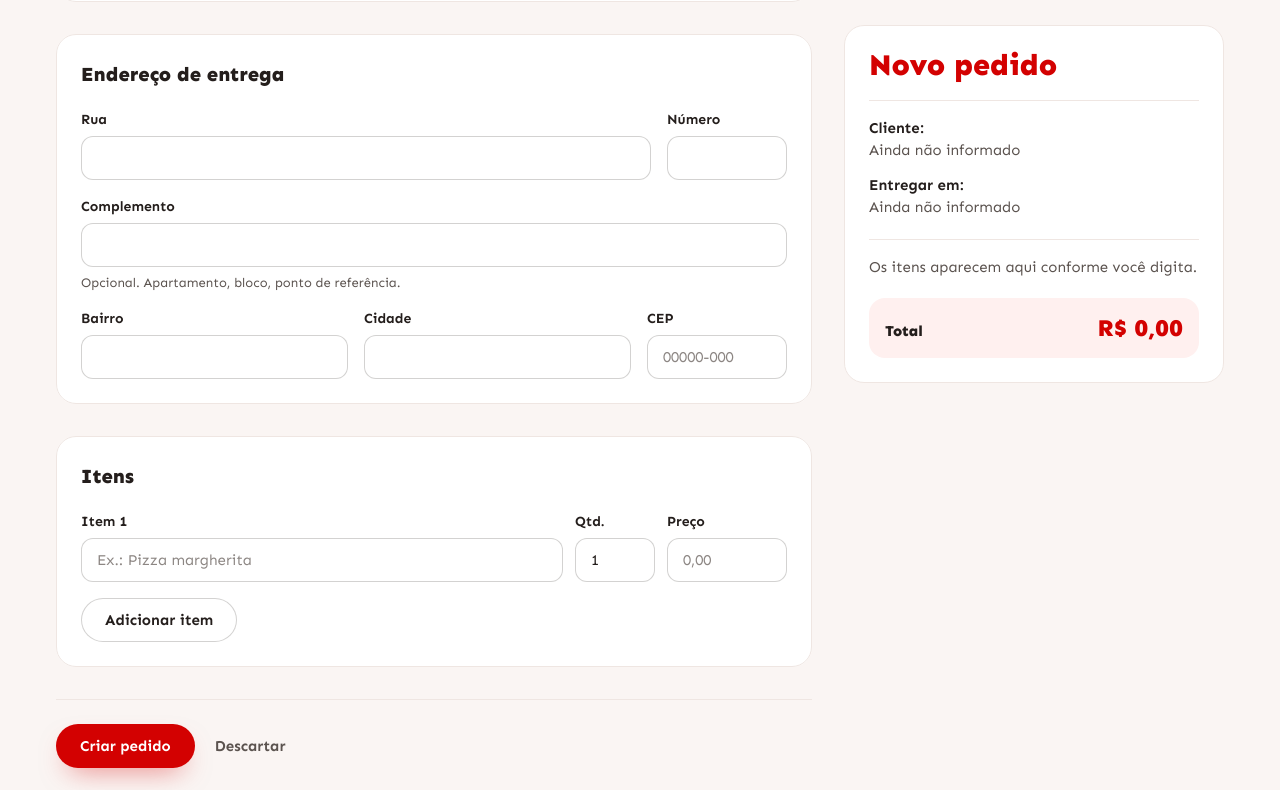
Test: novo pedido › remove um item da lista
(page scrolled)
Click the button "Adicionar item" at (159, 620), box [81,598,237,642]
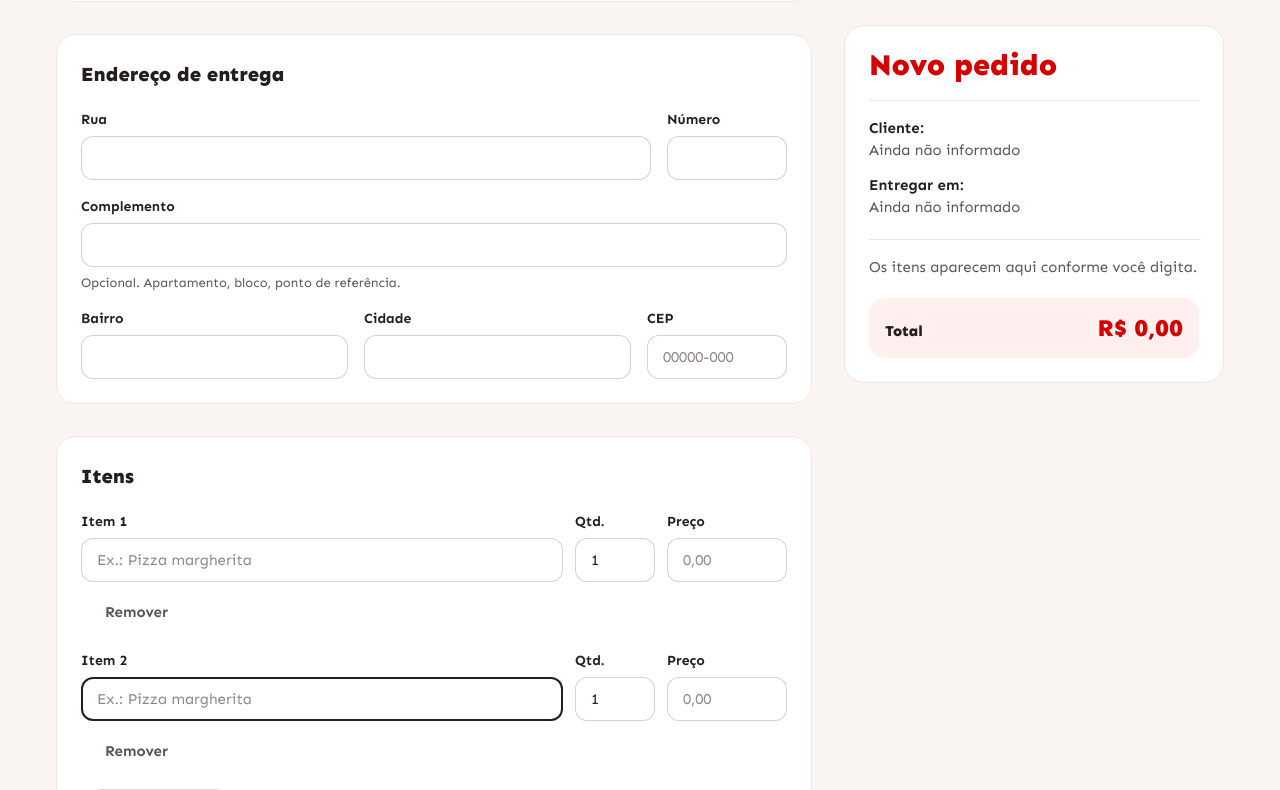
Result: the field labelled "Item 2" is shown at [81,677,563,721]
Click the button with aria-label "Remover item 2" at (136, 751), box [81,729,192,773]
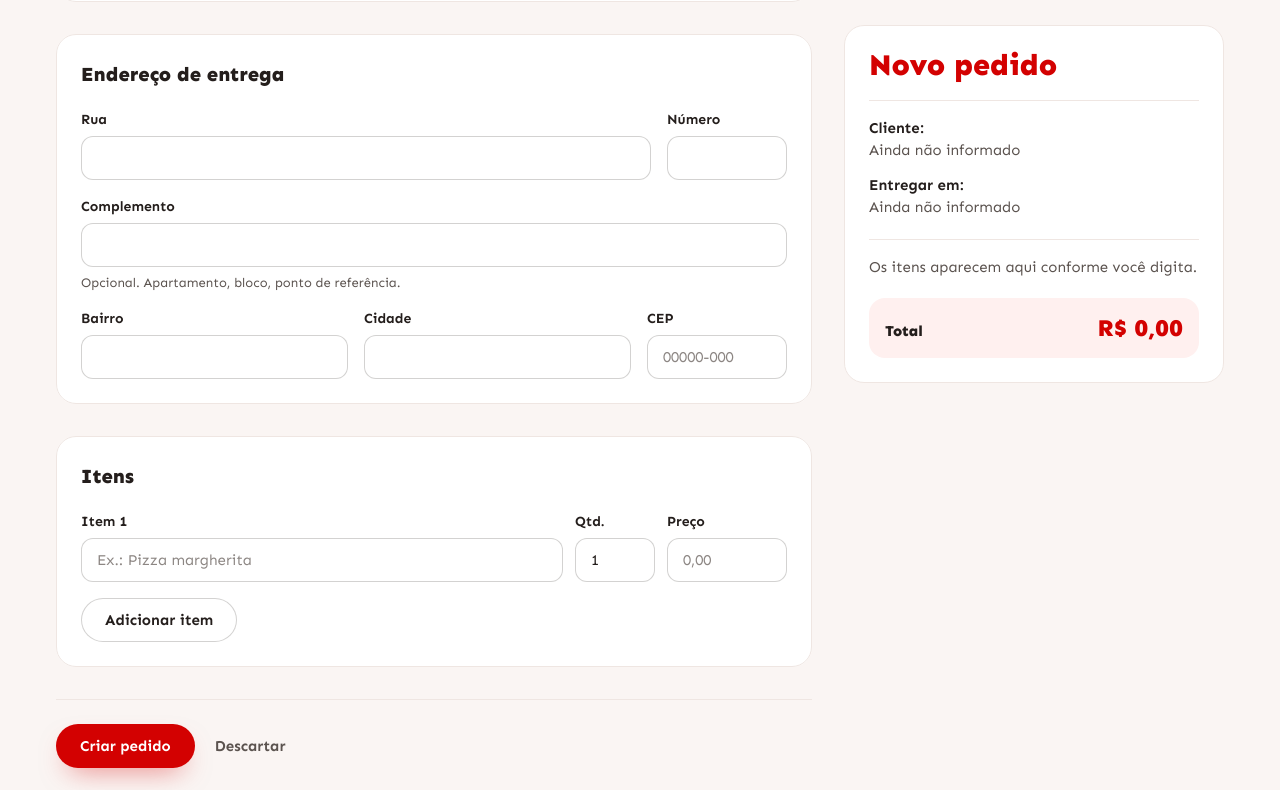
Result: the label labelled "Item 2" is gone
